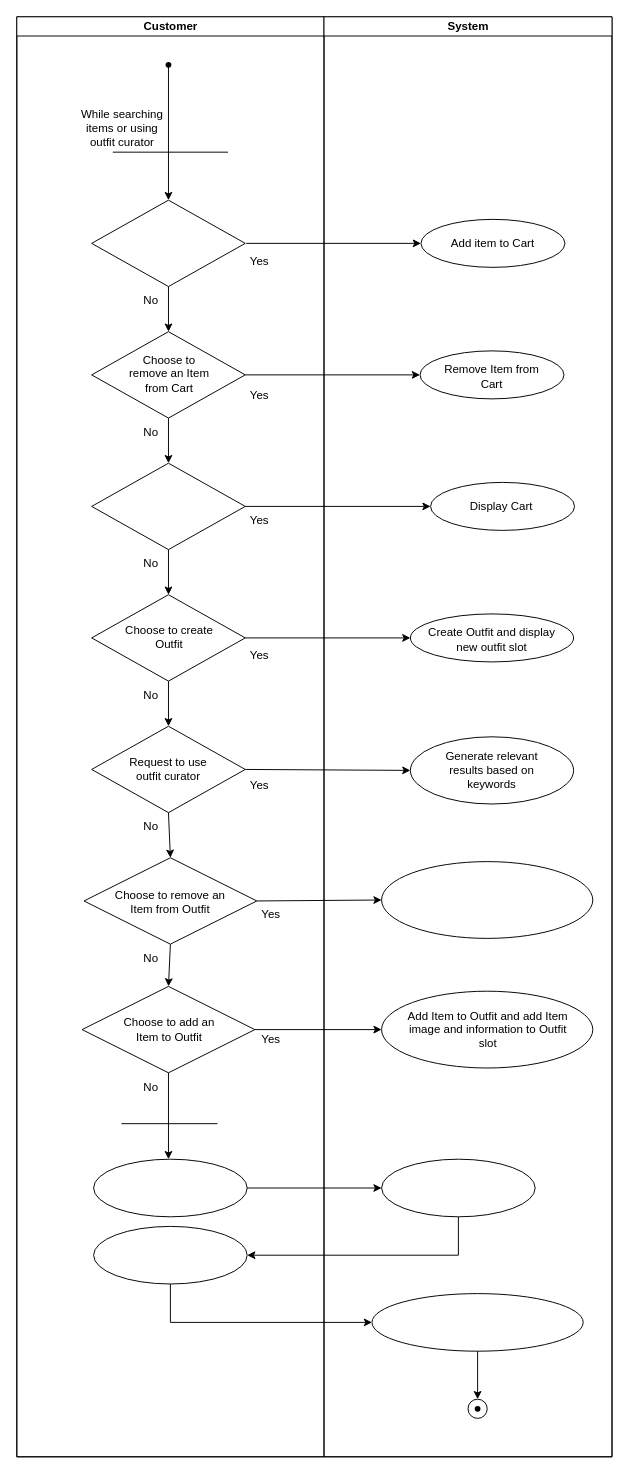
The diagram is 629 pixels wide and 1474 high, and some of its shapes have lost their labels. Here are the shapes that lost their labels. From the top down, the centre of each, then its label:
the point at 168,243: Choose to add an Item to Cart
the point at 168,506: Choose to view Cart
the point at 487,899: Remove Item from Outfit and remove Item image and information from Outfit slot
the point at 170,1187: Request printed receipt
the point at 458,1187: Ask for confirmation and display cart information
the point at 170,1254: Confirm to print receipt
the point at 477,1322: Print receipt, confirm that receipt is printed, and display empty cart
